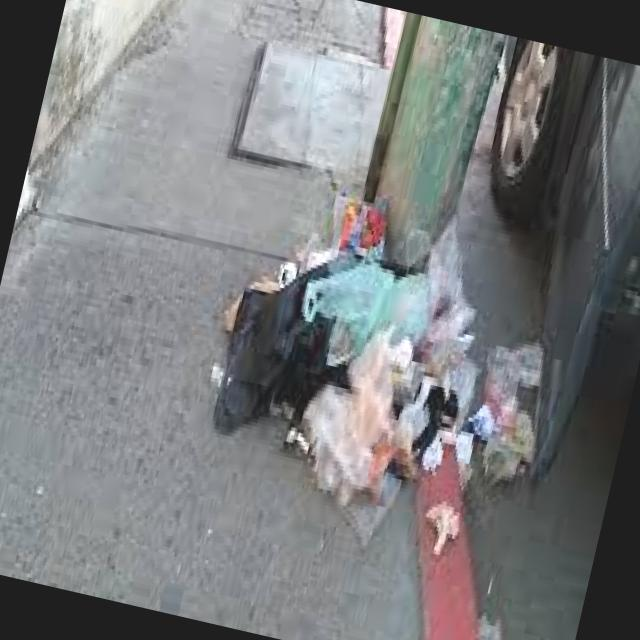garbage: (189, 199, 568, 565)
